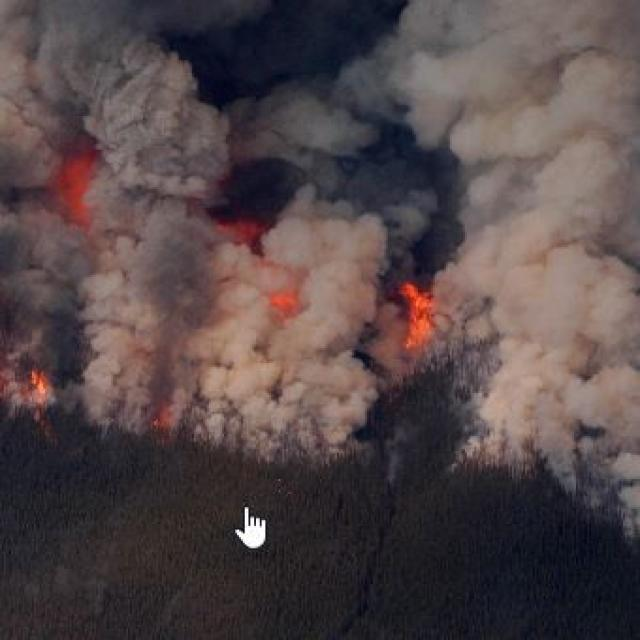Fire: (392, 277, 438, 355), (20, 359, 68, 410)
Smoke: (13, 0, 627, 485)
